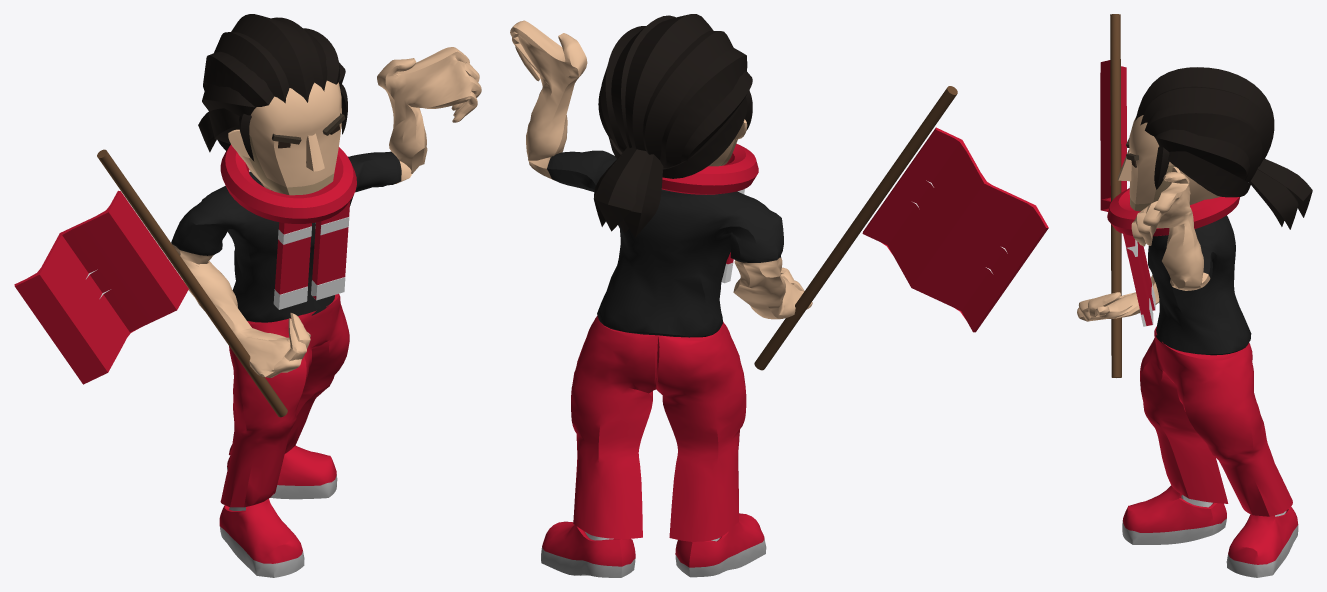
File: av-torcedor-arquibancada.glb
3 views of the same model, side by side, from view 1: azimuth 30°, elevation 25°; view 2: azimuth 150°, elevation 25°; view 3: azimuth 270°, elevation 25° (orthographic). The views are drawn at different scales.
Parts seen in each view (by area): view 1: Ad_bandeira_1_0; view 2: Ad_bandeira_1_0; view 3: Ad_bandeira_1_0.
Part boxes in pixels (<box>): Ad_bandeira_1_0: <box>14,14,481,577</box>; Ad_bandeira_1_0: <box>510,14,1048,577</box>; Ad_bandeira_1_0: <box>1077,14,1312,577</box>.
Bounding box in the file's own units: 1.35 × 1.37 × 0.6126.
Materials: 1 (1 with a texture image).
